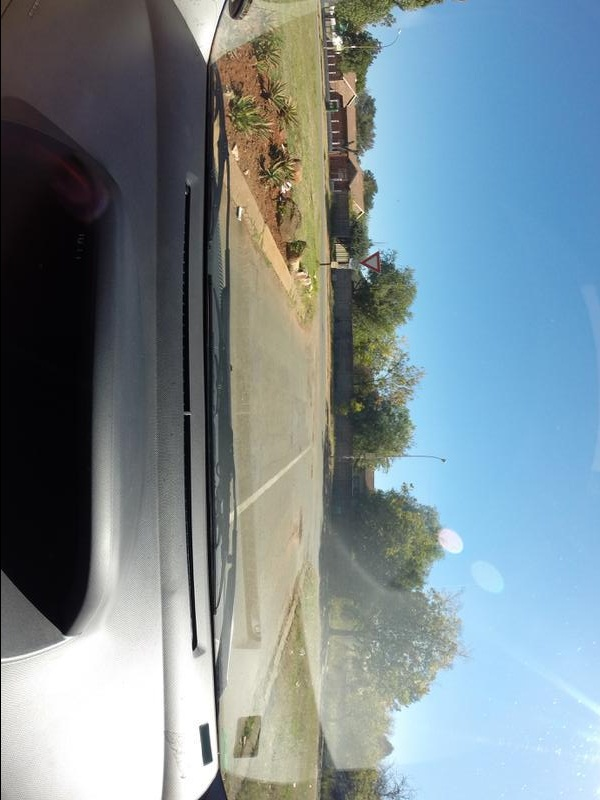pothole: (294, 508, 308, 550)
